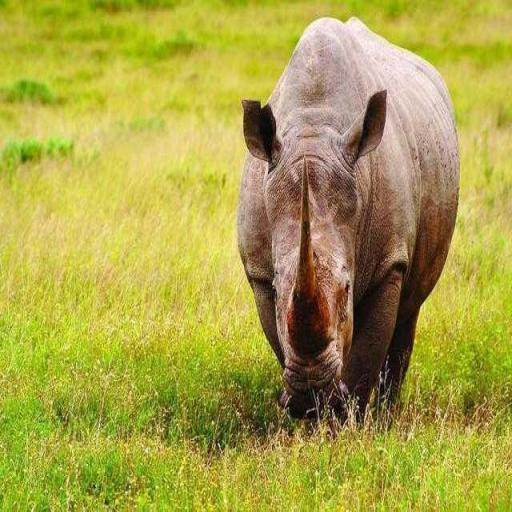Rhino: (235, 13, 461, 434)
